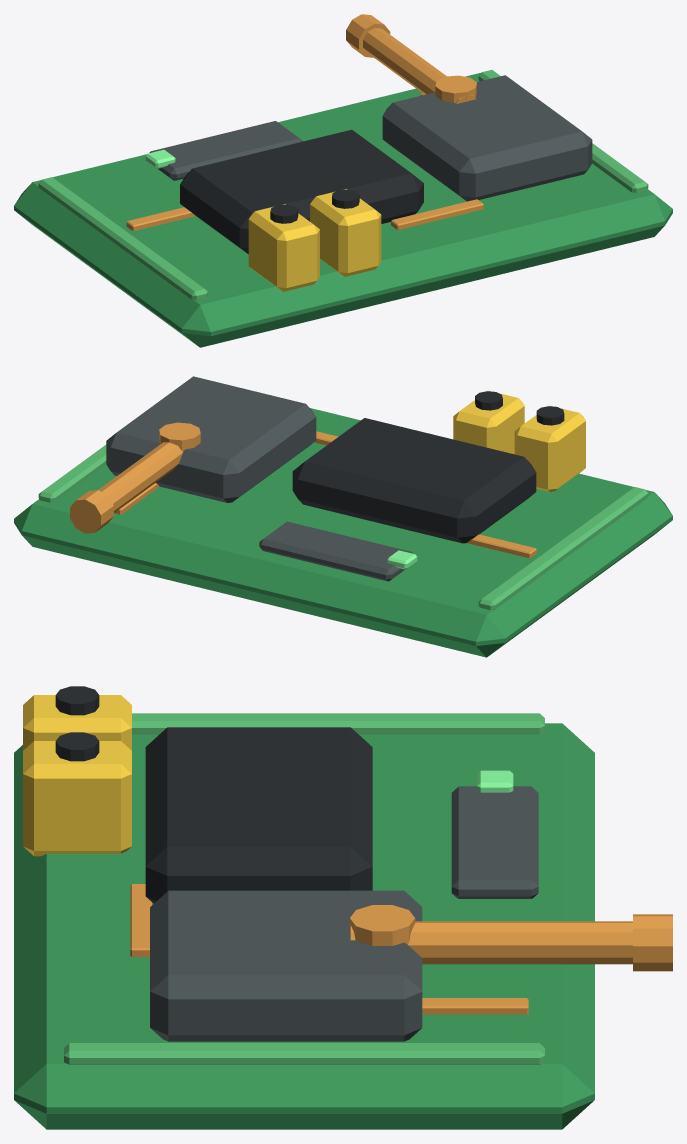
File: FTF_Tool_ElectronicDetonatorModule.glb
3 views of the same model, one above another, from view 1: azimuth 30°, elevation 25°; view 2: azimuth 150°, elevation 25°; view 3: azimuth 270°, elevation 25° (orthographic). The views are drawn at different scales.
Visible parts, largest first — view 1: ElectronicDetonatorModule_Mesh; view 2: ElectronicDetonatorModule_Mesh; view 3: ElectronicDetonatorModule_Mesh.
Boxes of the visible parts, box(x1,y1,x2,y2) form: ElectronicDetonatorModule_Mesh: box(14, 14, 672, 347); ElectronicDetonatorModule_Mesh: box(14, 376, 672, 657); ElectronicDetonatorModule_Mesh: box(14, 686, 672, 1129).
Bounding box in the file's own units: 0.48 × 0.1 × 0.363.
